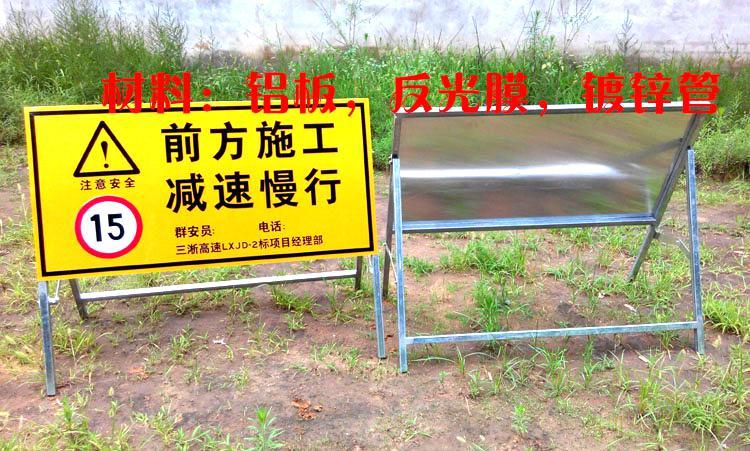sign: (29, 105, 371, 258)
